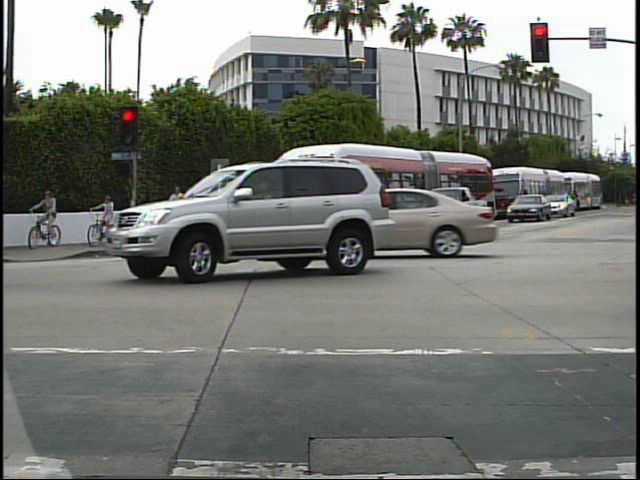person: (95, 194, 120, 243)
